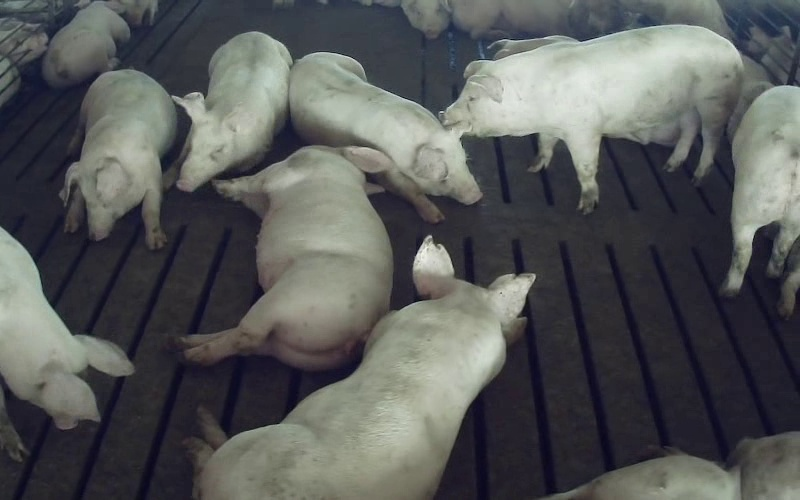pig: (188, 237, 534, 499), (441, 26, 742, 212), (181, 146, 392, 370), (290, 52, 481, 222), (60, 70, 175, 248), (165, 32, 291, 191), (720, 86, 799, 296)
